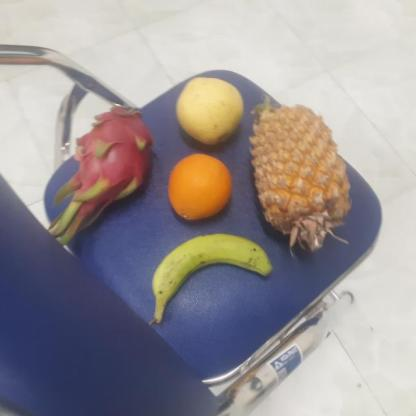banana: (147, 231, 270, 311)
orange: (166, 154, 233, 222)
pear: (172, 76, 245, 148)
pineapple: (246, 98, 350, 244)
pitaya: (70, 105, 154, 198)
